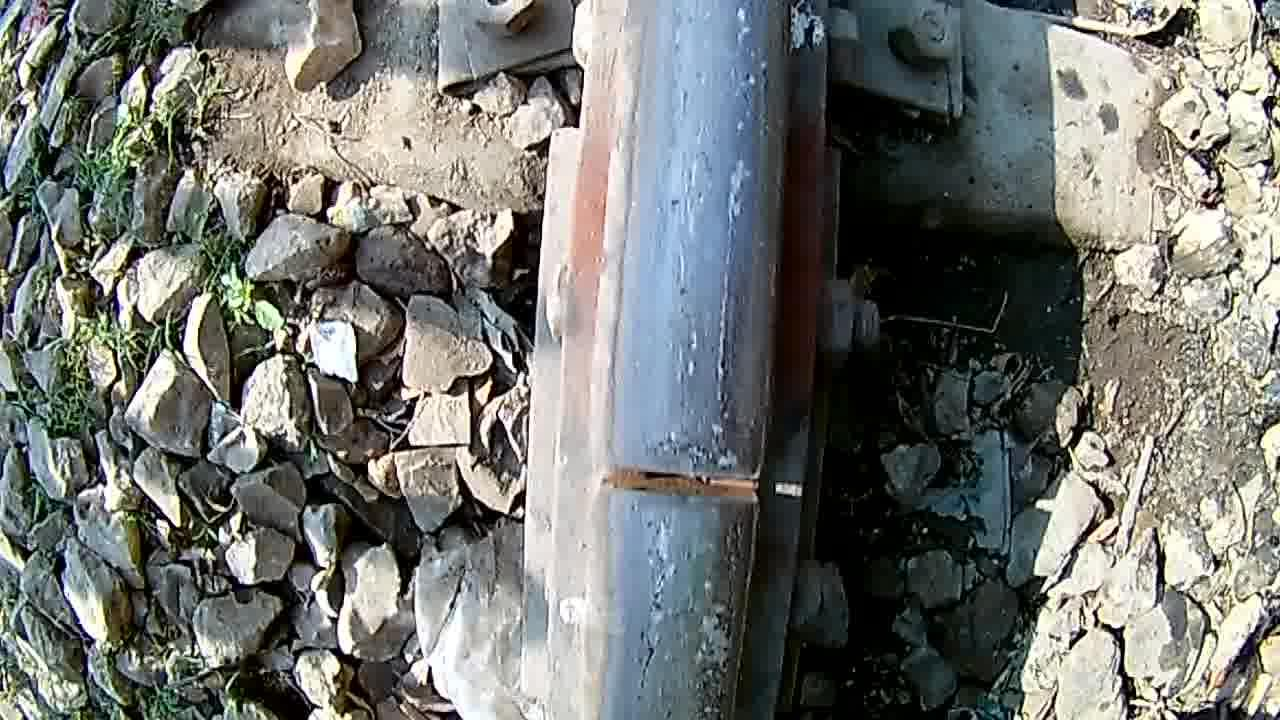clip_missing: (619, 3, 800, 448)
